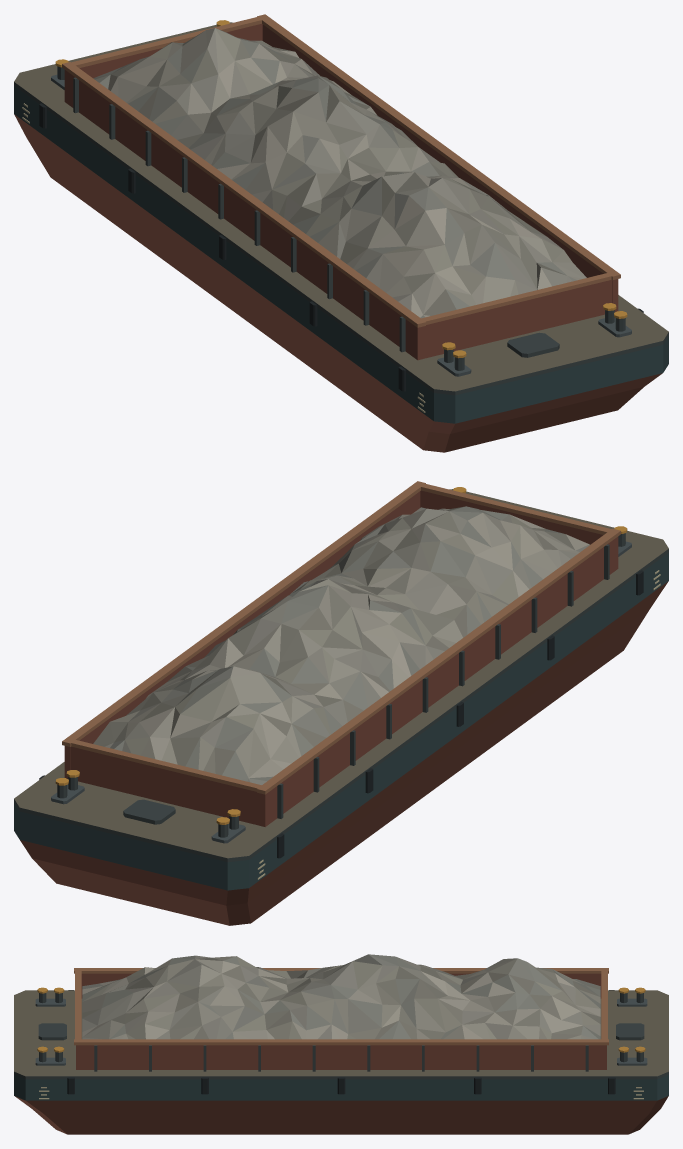
The model's file is barge_gravel_mid.glb.
3 renders of one model, top to bottom at view 1: azimuth 30°, elevation 25°; view 2: azimuth 150°, elevation 25°; view 3: azimuth 270°, elevation 25°, orthographic. The views are drawn at different scales.
Visible parts, largest first — view 1: Steel scow, Gravel; view 2: Steel scow, Gravel; view 3: Steel scow, Gravel.
Boxes of the visible parts, box(x1,y1,x2,y2) form: Steel scow: box(14, 14, 668, 452); Gravel: box(93, 28, 586, 318); Steel scow: box(14, 481, 668, 925); Gravel: box(93, 506, 589, 784); Steel scow: box(14, 968, 668, 1134); Gravel: box(82, 954, 600, 1039).
Size of the model in its own units: 7.68 by 5.73 by 24.
